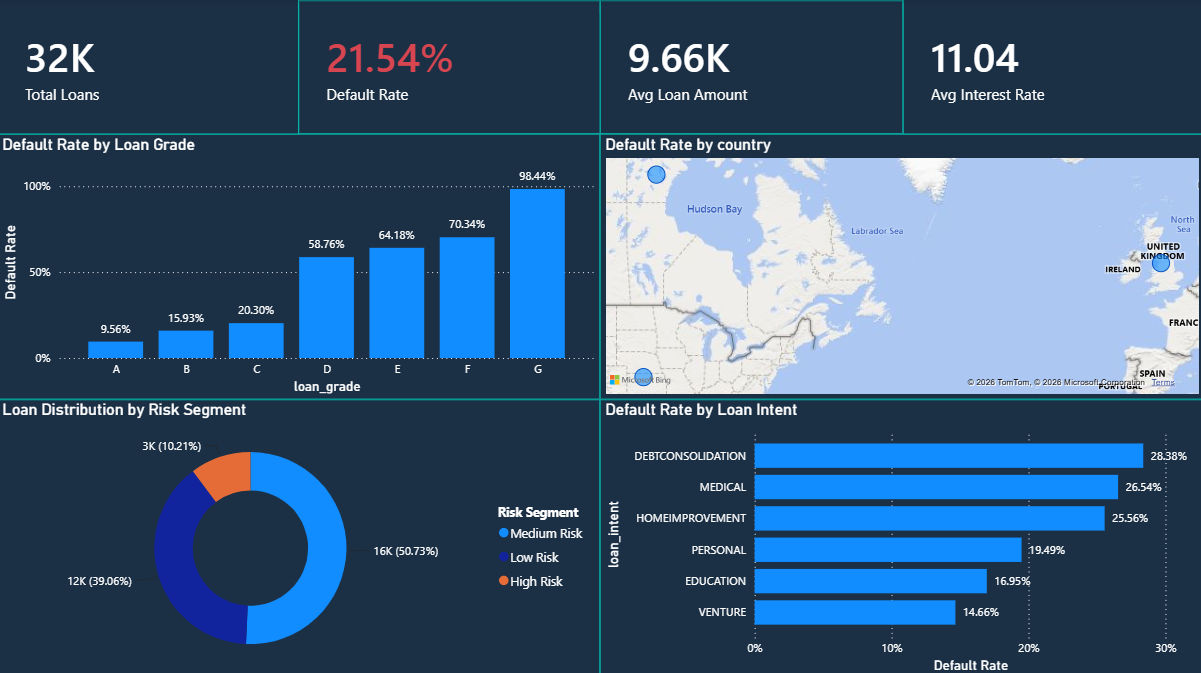

What the dashboard file says about the page in this screenshot:
{"tool":"powerbi","page":{"name":"Overview","canvas":[1280,720],"ordinal":2},"visuals":[{"type":"cardVisual","fields":{"Data":["public loans.Total Loans"]},"box":[0,0,319.7,143.2],"z":0},{"type":"cardVisual","fields":{"Data":["public loans.Default Rate"]},"box":[319.7,1.6,319.7,141.6],"z":1000},{"type":"cardVisual","fields":{"Data":["public loans.Avg Loan Amount"]},"box":[639.4,1.6,321.3,141.6],"z":2000},{"type":"cardVisual","fields":{"Data":["public loans.Avg Interest Rate"]},"box":[960.7,0,319.7,143.2],"z":3000},{"type":"clusteredColumnChart","title":"Default Rate by Loan Grade","fields":{"Category":["public loans.loan_grade"],"Y":["public loans.Default Rate"]},"box":[0,143.2,639.4,281.5],"z":4000},{"type":"map","fields":{"Category":["public loans.country"],"Size":["public loans.Default Rate"]},"box":[639.4,143.2,641,281.5],"z":5000},{"type":"donutChart","title":"Loan Distribution by Risk Segment","fields":{"Category":["public loans.Risk Segment"],"Y":["public loans.Total Loans"]},"box":[0,424.7,639.4,295.9],"z":6000},{"type":"barChart","title":"Default Rate by Loan Intent","fields":{"Y":["public loans.Default Rate"],"Category":["public loans.loan_intent"]},"box":[639.4,424.7,641,295.9],"z":7000}]}

Visuals, with their boxes in screenshot pixels (x1, y1, x2, y2), scaled from the page's 1280x720 canvas onto the 1201x673 screenshot:
cardVisual - public loans.Total Loans: [0, 0, 300, 134]
cardVisual - public loans.Default Rate: [300, 1, 600, 134]
cardVisual - public loans.Avg Loan Amount: [600, 1, 901, 134]
cardVisual - public loans.Avg Interest Rate: [901, 0, 1200, 134]
"Default Rate by Loan Grade" clusteredColumnChart: [0, 134, 600, 397]
map - public loans.country x public loans.Default Rate: [600, 134, 1200, 397]
"Loan Distribution by Risk Segment" donutChart: [0, 397, 600, 672]
"Default Rate by Loan Intent" barChart: [600, 397, 1200, 672]
